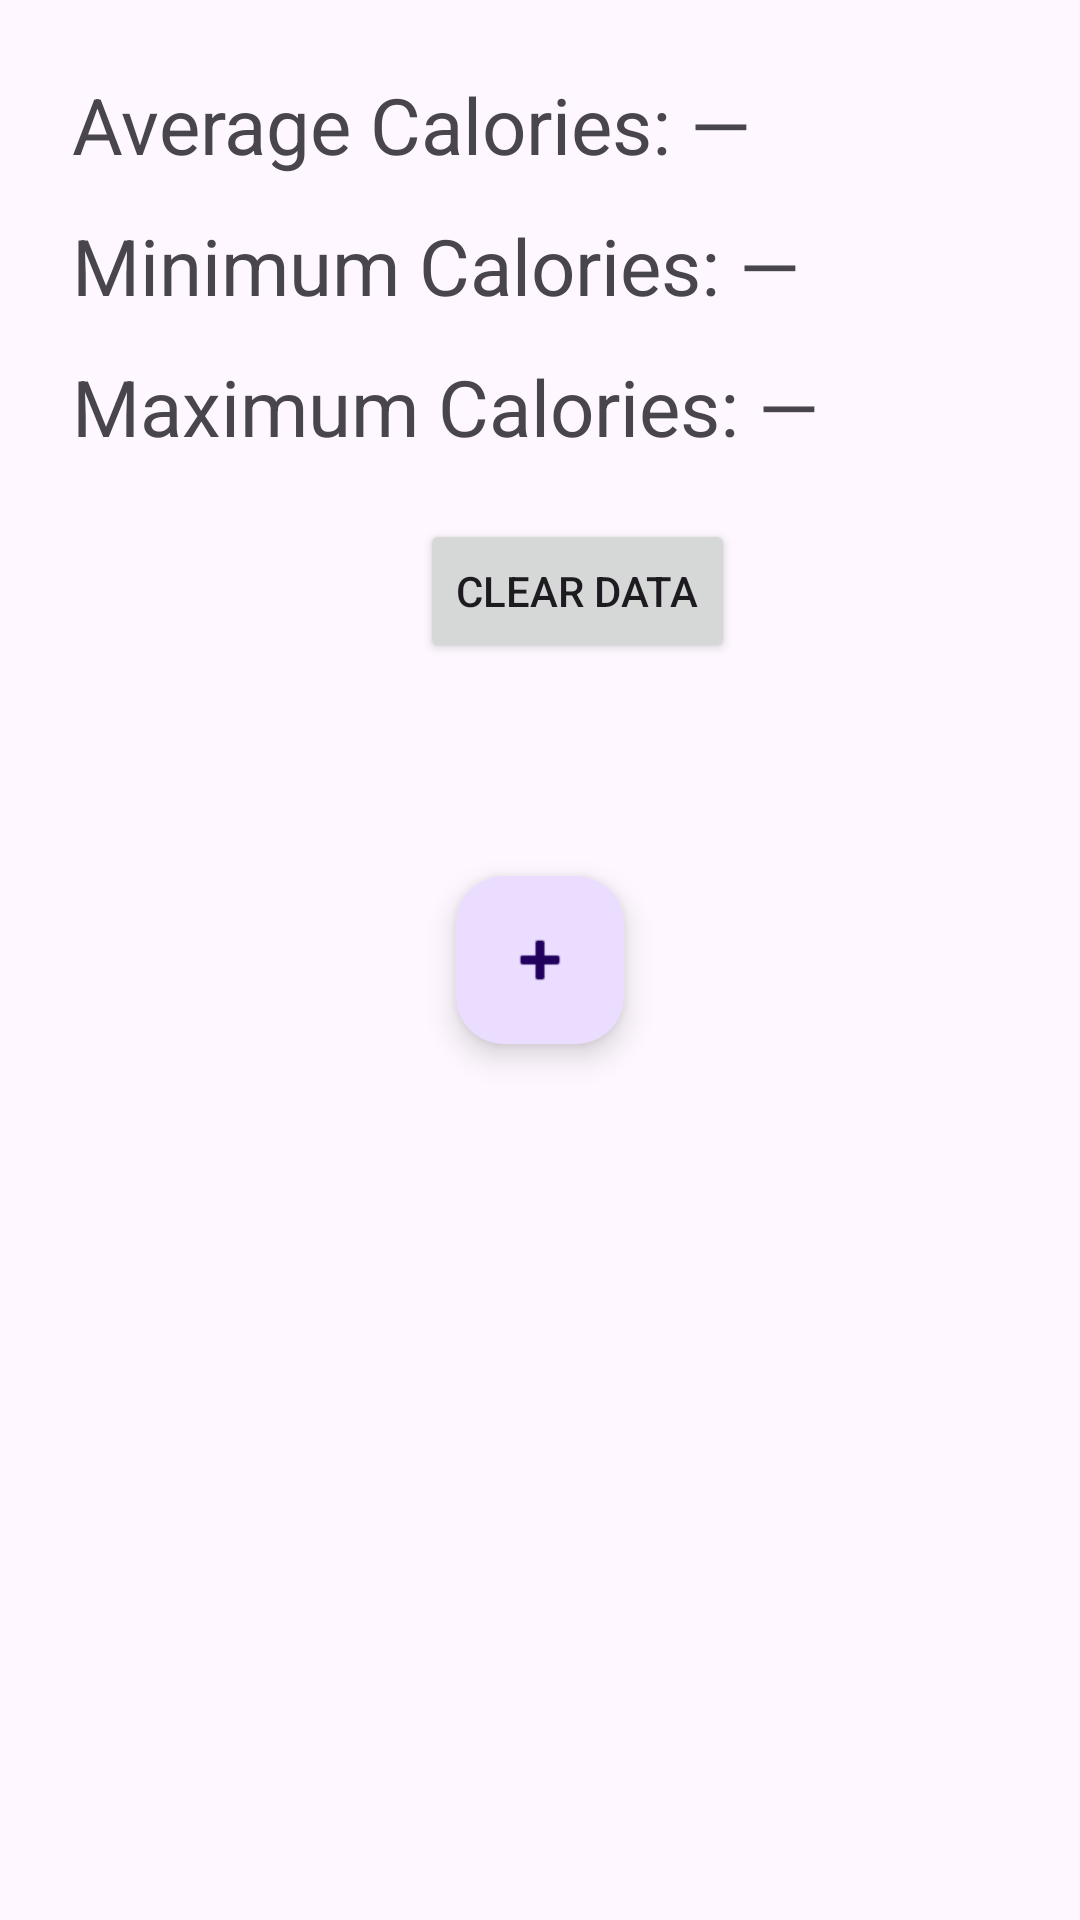

Where icons sit on this 1080px x 1920px app screen, as {"left": x1, "top": y1, "right": x2, "bottom": y2}:
add: {"left": 456, "top": 876, "right": 624, "bottom": 1044}
